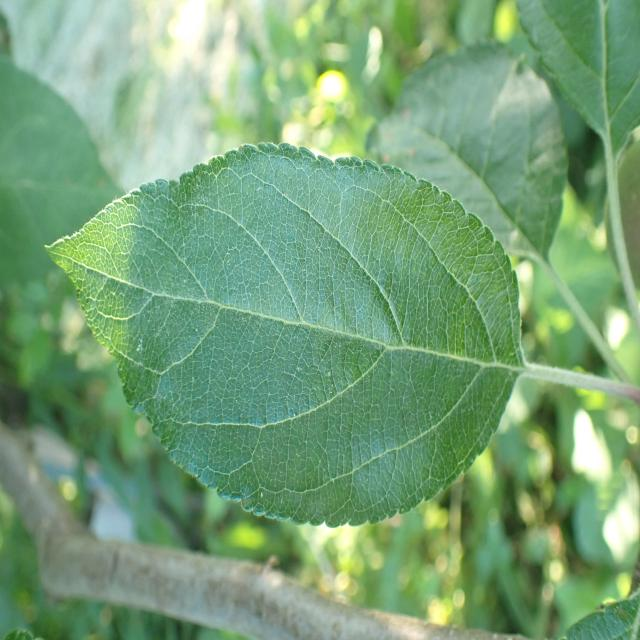healthy: (42, 141, 526, 529), (367, 39, 568, 264), (514, 0, 640, 162)
